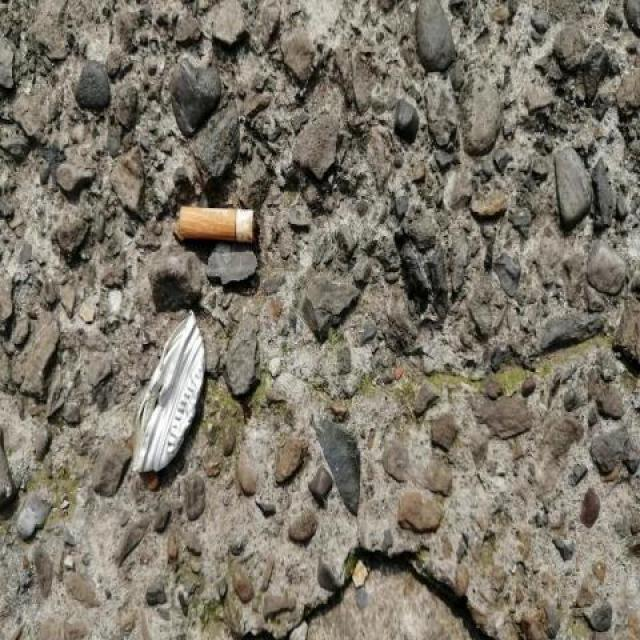non-organic waste: (173, 200, 260, 252)
